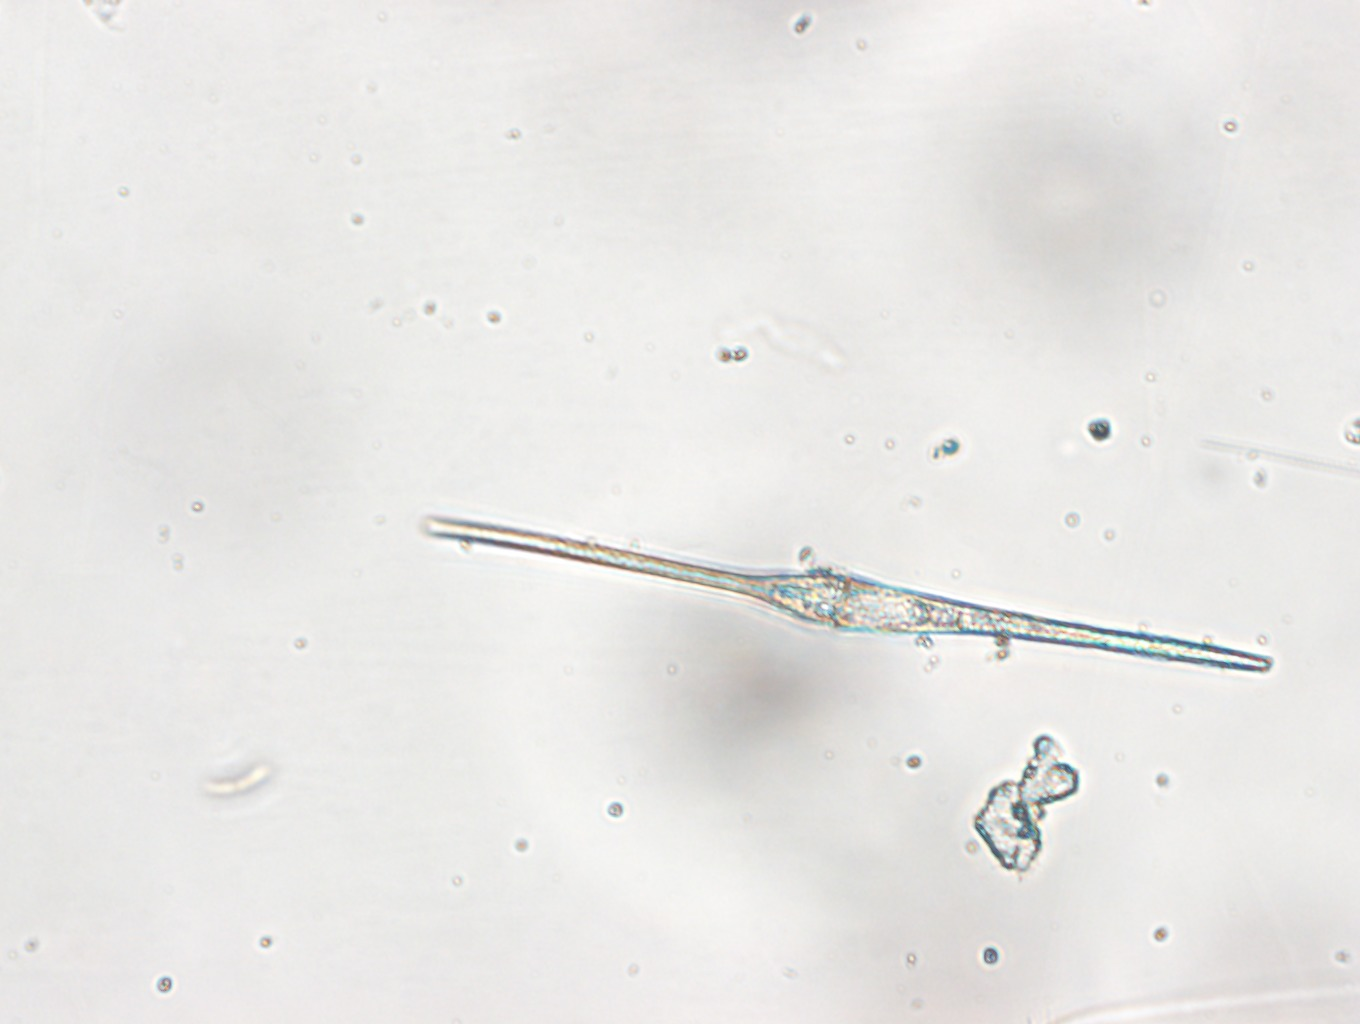ceratium fusus: (424, 515, 1272, 675)
